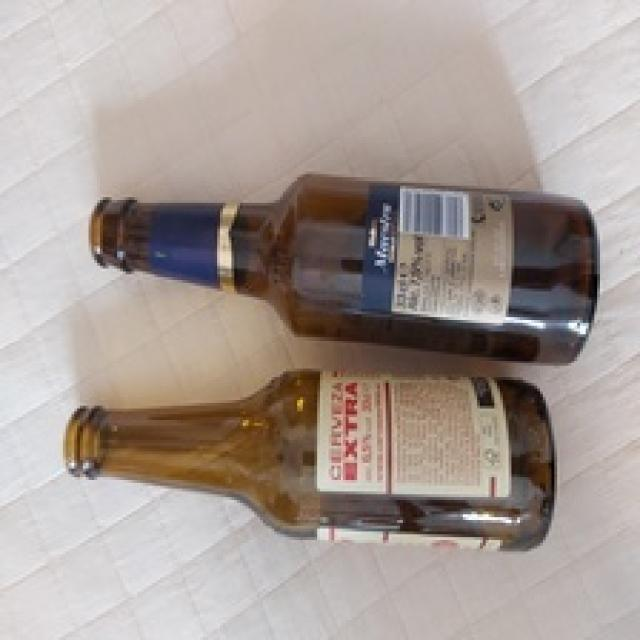Glass: (85, 172, 599, 368), (63, 366, 554, 554)
